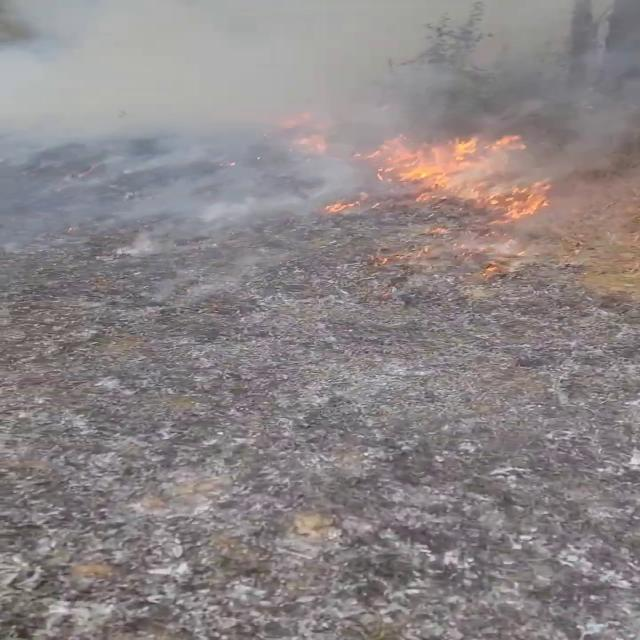Fire: (329, 124, 582, 282)
Smoke: (2, 0, 636, 283)
